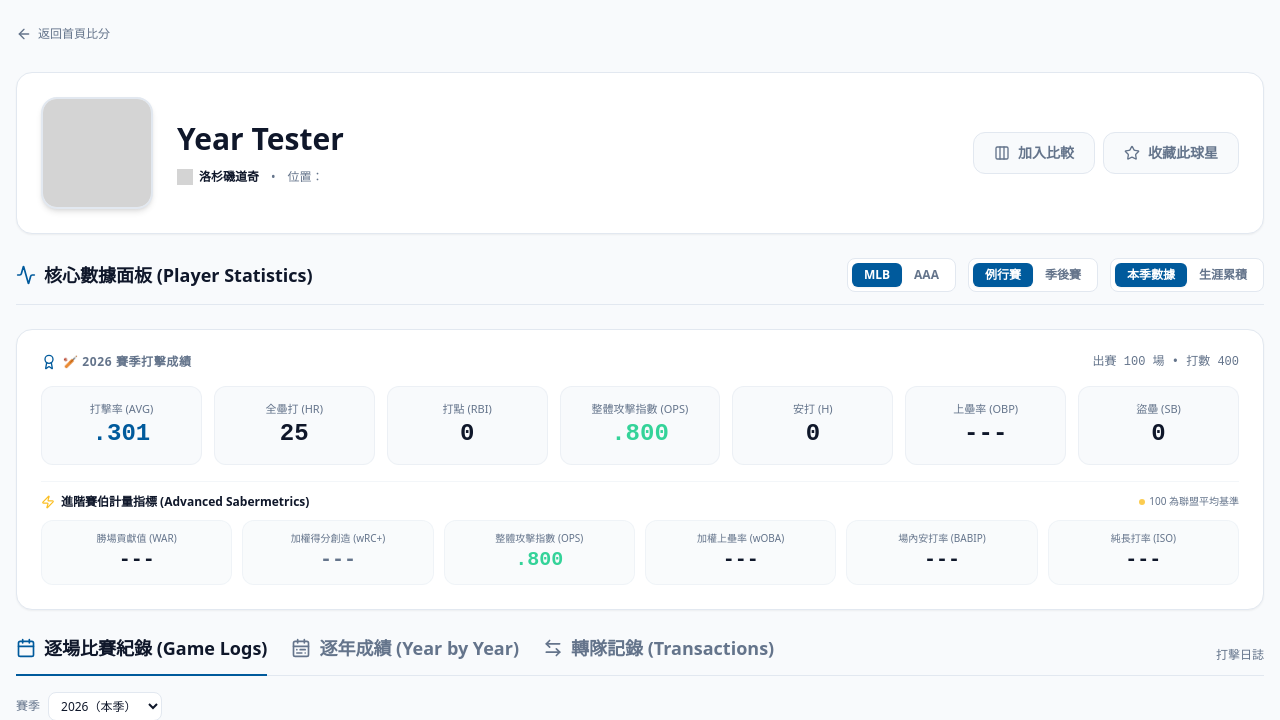
Test: PlayerDetailPage year by year › lists each season at the level shown, a traded season as its total and each club
What coordinates should you click on to do the following:
click the tab "逐年成績 (Year by Year)"
I would click on:
 (405, 654)
Its box is [291,634,519,676].
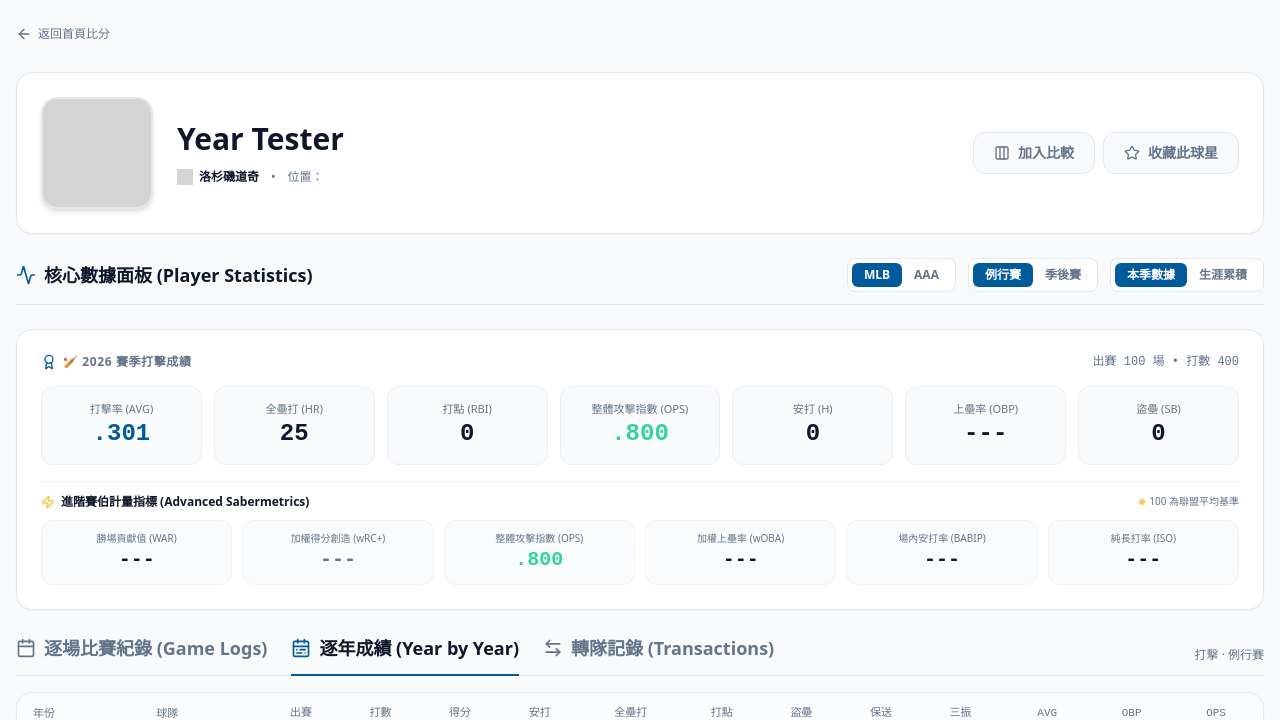
Check: the text "Oklahoma City Comets" is not shown
Note: The AAA season comes with the AAA level
What coordinates should you click on to do the following:
click the button "AAA"
I would click on:
 (926, 275)
Its box is [902,263,951,287].
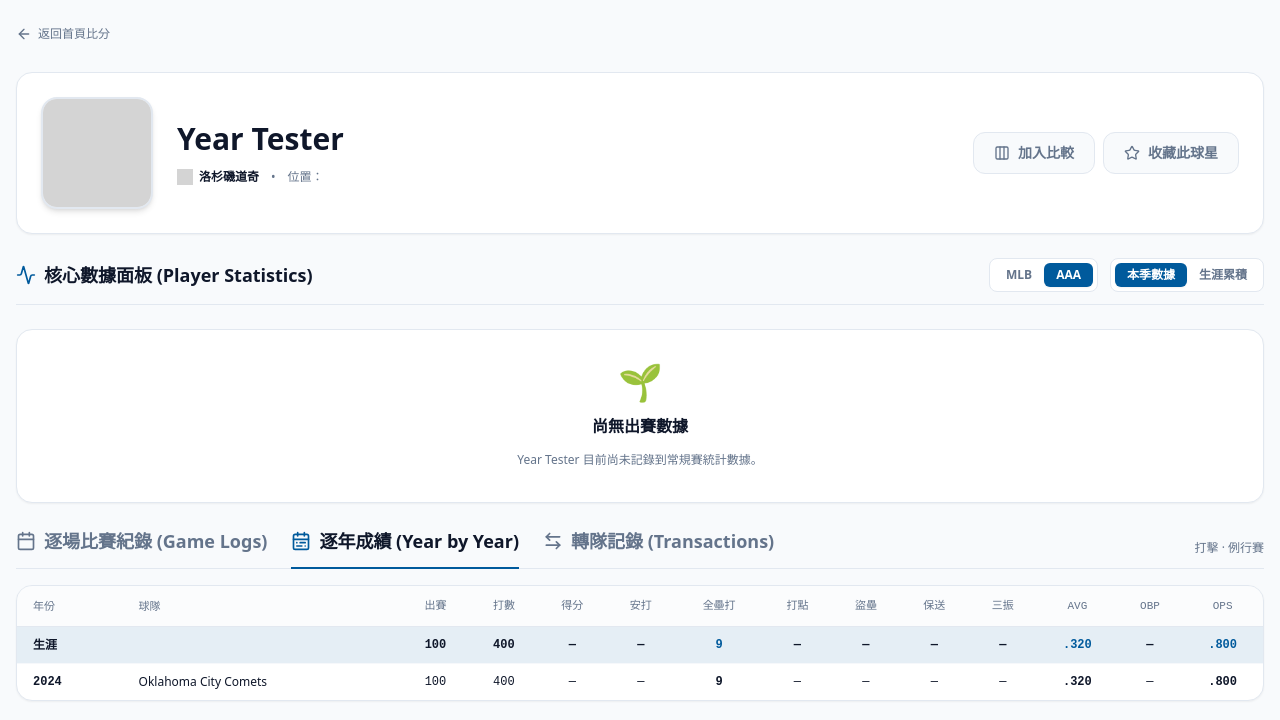
Check: the text "Oklahoma City Comets" is shown, box [138,674,278,690]
Check: the text "2026" is gone
